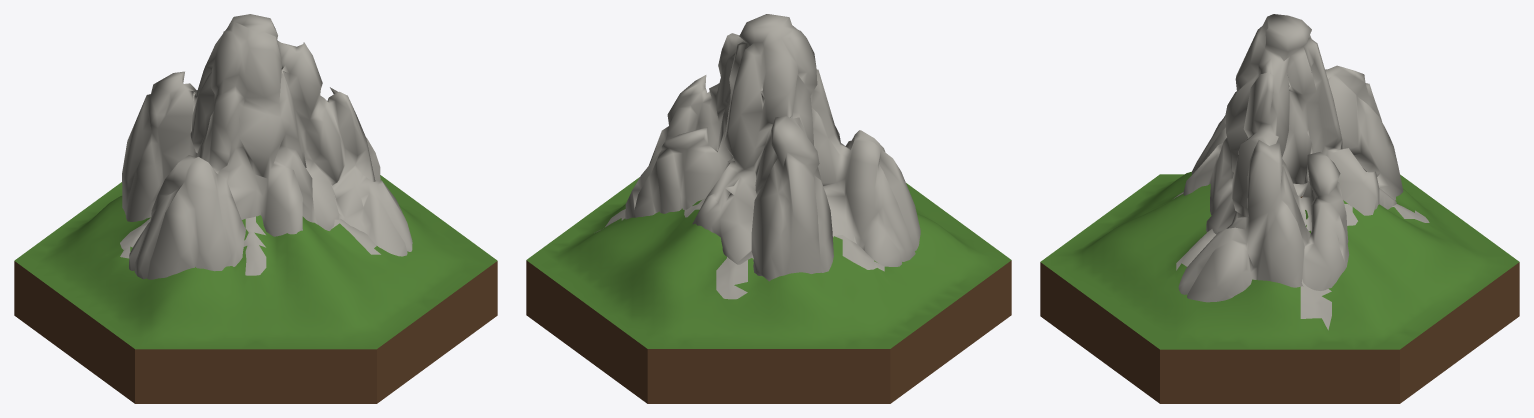
File: peak_granite.glb
3 renders of one model, left to right at view 1: azimuth 30°, elevation 25°; view 2: azimuth 150°, elevation 25°; view 3: azimuth 270°, elevation 25°, orthographic.
Parts seen in each view (by area): view 1: peak_granite_lod0; view 2: peak_granite_lod0; view 3: peak_granite_lod0.
Part boxes in pixels (x1,y1,x2,y2): peak_granite_lod0: (14,14,497,403); peak_granite_lod0: (526,14,1011,403); peak_granite_lod0: (1040,14,1519,403).
Size of what is drawn, in the model's own units: 27.71 by 21.68 by 32.
